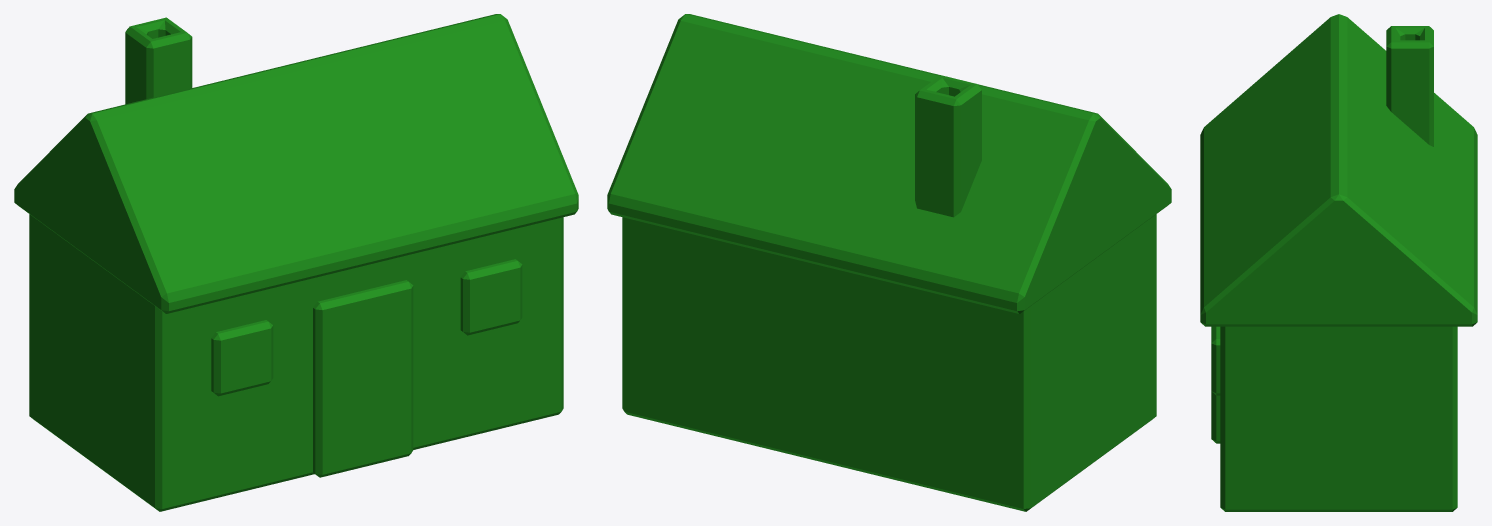
File: House.fbx
The picture shows the model from 3 angles, left to right: view 1: azimuth 30°, elevation 25°; view 2: azimuth 150°, elevation 25°; view 3: azimuth 270°, elevation 25°; orthographic projection. The views are drawn at different scales.
Visible parts, largest first — view 1: House; view 2: House; view 3: House.
Boxes of the visible parts, x1=… form: House: x1=14, y1=14, x2=578, y2=511; House: x1=607, y1=14, x2=1171, y2=511; House: x1=1200, y1=14, x2=1477, y2=511.
Size of the model in its own units: 130 by 179 by 204.
